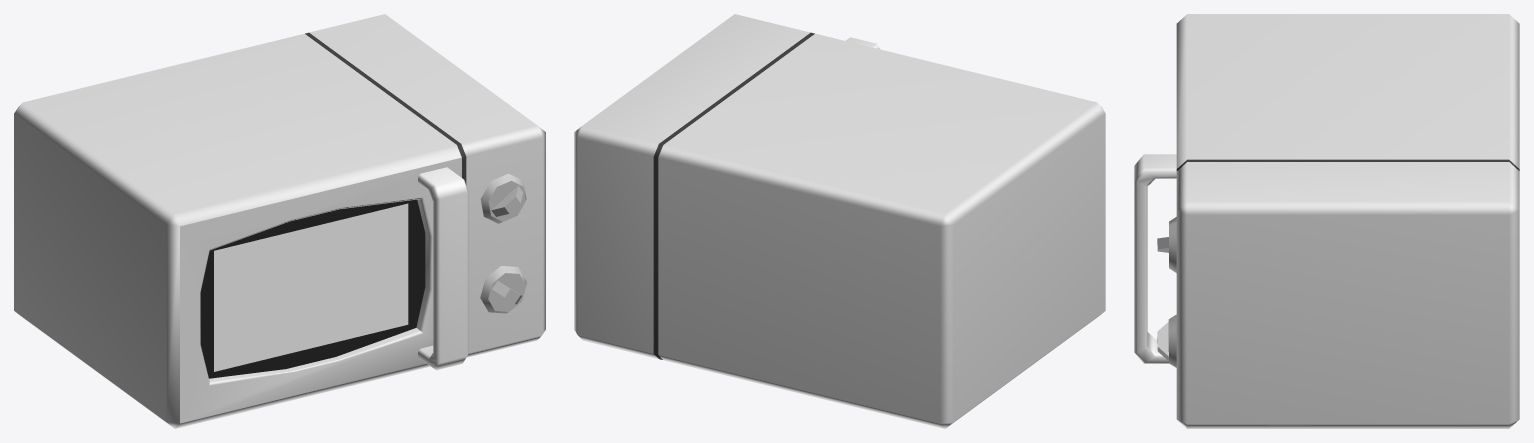
File: electronics_009.fbx
The picture shows the model from 3 angles, left to right: view 1: azimuth 30°, elevation 25°; view 2: azimuth 150°, elevation 25°; view 3: azimuth 270°, elevation 25°; orthographic projection. The views are drawn at different scales.
Visible parts, largest first — view 1: electronics_009; view 2: electronics_009; view 3: electronics_009.
Boxes of the visible parts, x1,y1,x2,y2 form: electronics_009: [14, 14, 545, 428]; electronics_009: [574, 14, 1105, 428]; electronics_009: [1134, 14, 1519, 428].
Bounding box in the file's own units: 65.45 × 54.35 × 35.44.
